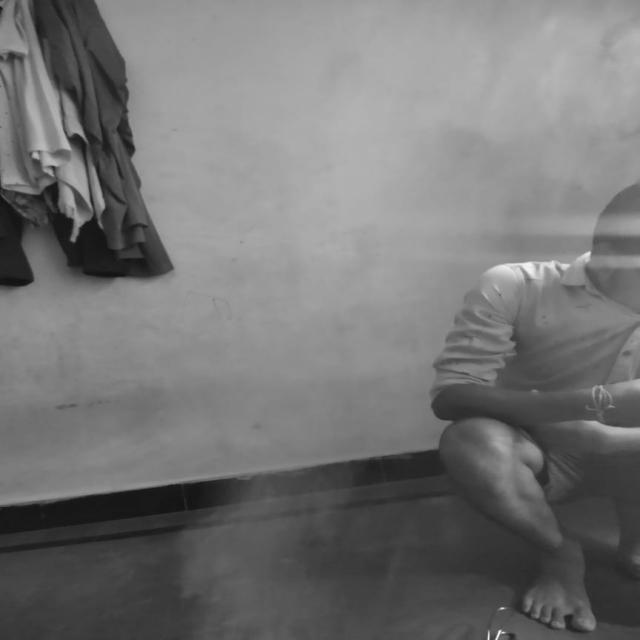fire: (193, 199, 458, 640)
